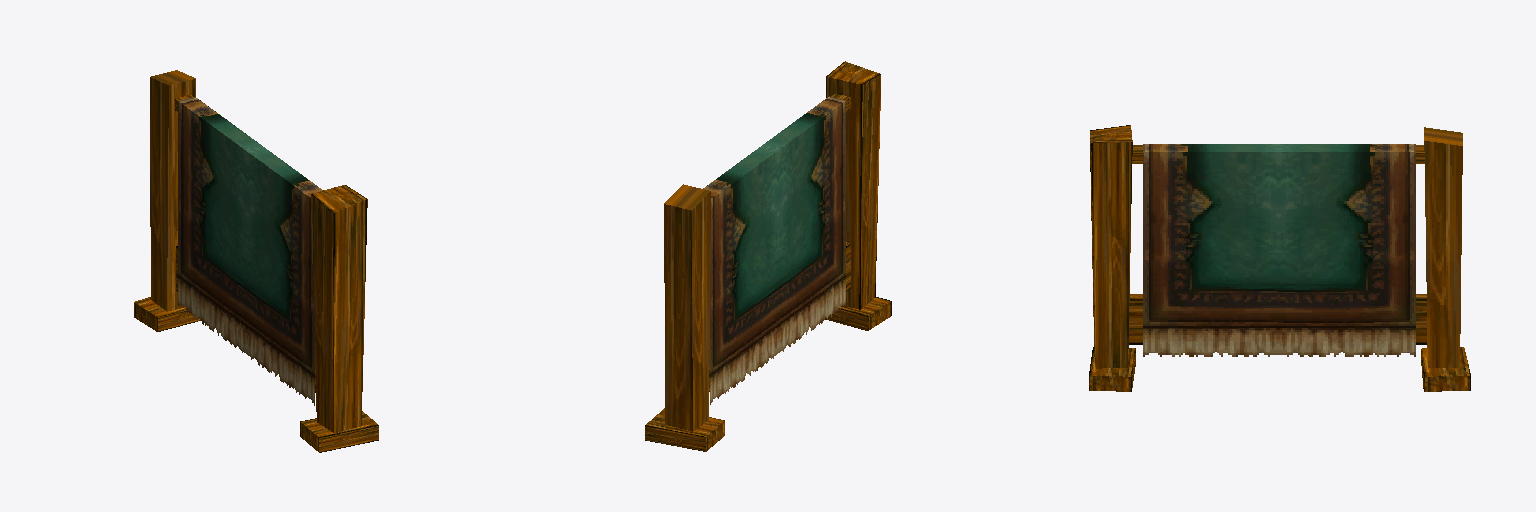
3 renders of one model, left to right at view 1: azimuth 30°, elevation 25°; view 2: azimuth 150°, elevation 25°; view 3: azimuth 270°, elevation 25°, orthographic.
Visible parts, largest first — view 1: object 1; view 2: object 1; view 3: object 1.
Boxes of the visible parts, box(x1,y1,x2,y2) form: object 1: box(134, 70, 378, 452); object 1: box(645, 61, 891, 451); object 1: box(1089, 125, 1470, 391).
Size of the model in its own units: 0.4643 by 1.78 by 2.54.
2 materials, 2 textured.